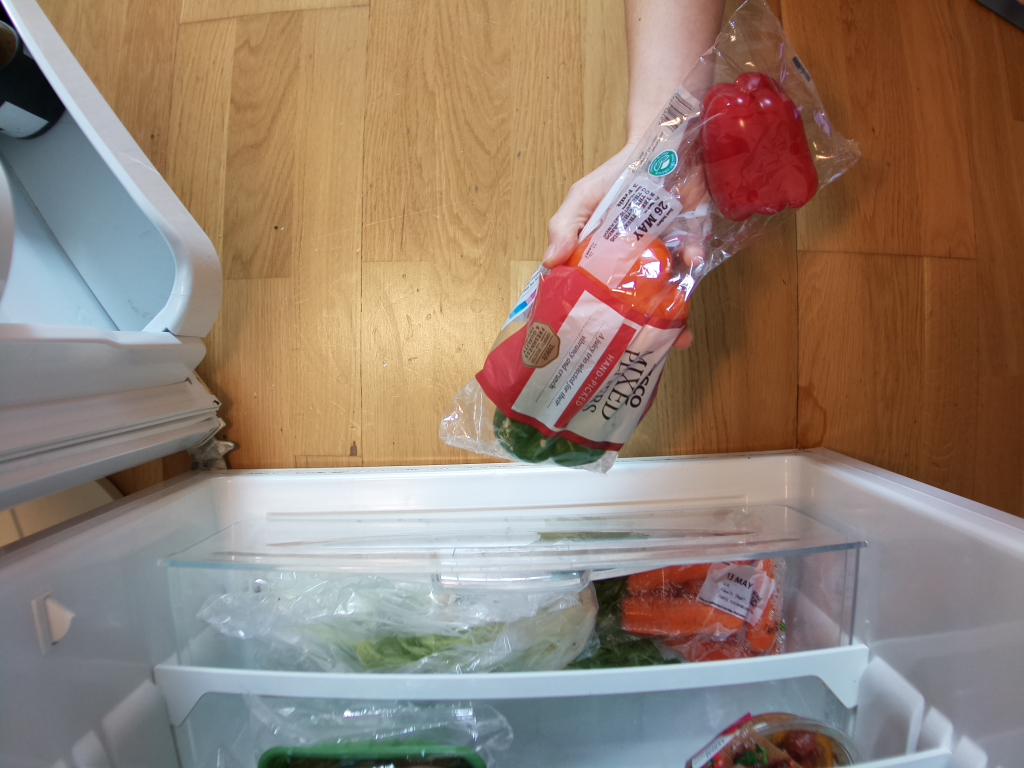pepper: (701, 73, 823, 217), (567, 227, 692, 335), (493, 408, 610, 465)
